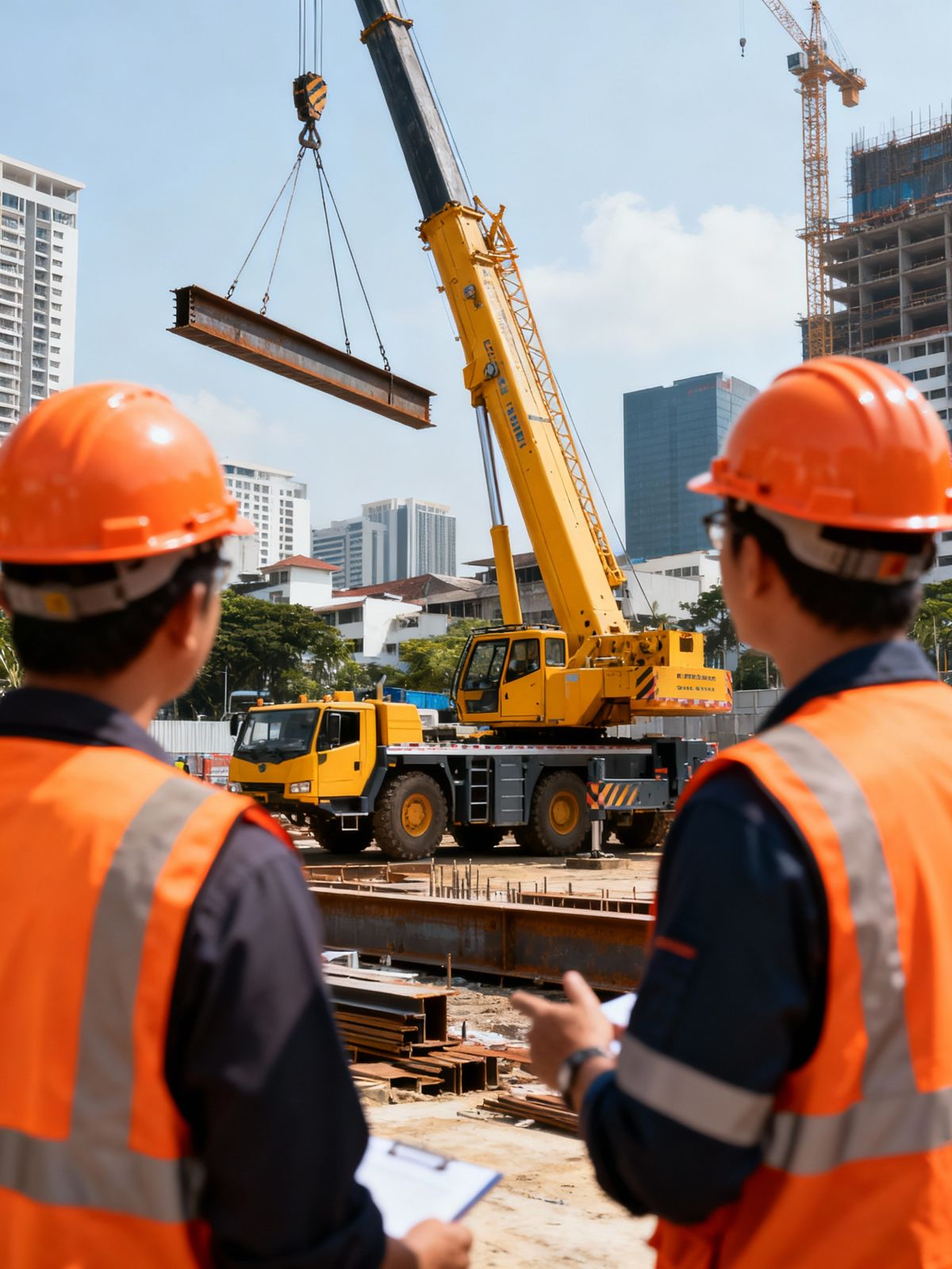crane: (173, 8, 703, 880), (697, 4, 878, 398)
hardhat: (697, 334, 935, 534), (13, 372, 235, 565)
person: (11, 369, 488, 1261), (515, 328, 944, 1257)
safety_vest: (686, 674, 937, 1255), (11, 703, 182, 1250)
